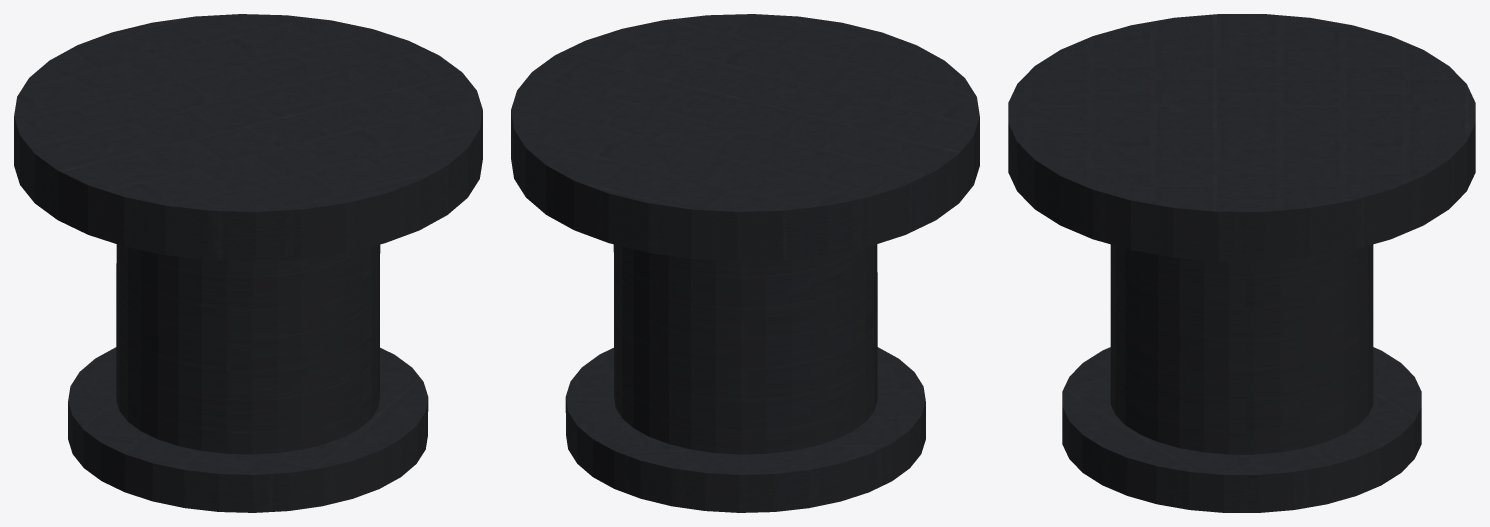
Rendered from presentoire.glb.
3 views of the same model, side by side, from view 1: azimuth 30°, elevation 25°; view 2: azimuth 150°, elevation 25°; view 3: azimuth 270°, elevation 25° (orthographic).
Visible parts, largest first — view 1: presentoire; view 2: presentoire; view 3: presentoire.
Part boxes in pixels (<box>): presentoire: <box>14,14,482,512</box>; presentoire: <box>511,14,979,512</box>; presentoire: <box>1008,14,1475,512</box>.
Bounding box in the file's own units: 2.73 × 2.09 × 2.73.
Materials: 1 (1 with a texture image).
